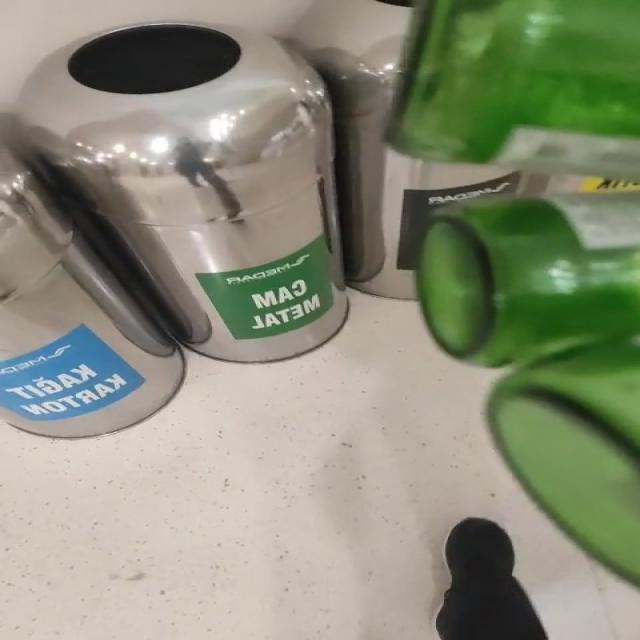glass: (417, 193, 639, 582), (388, 0, 639, 180)
